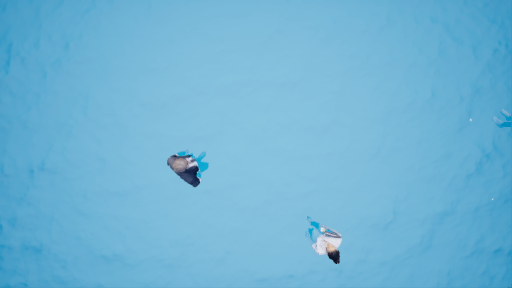person: (305, 218, 348, 265), (165, 149, 213, 187)
